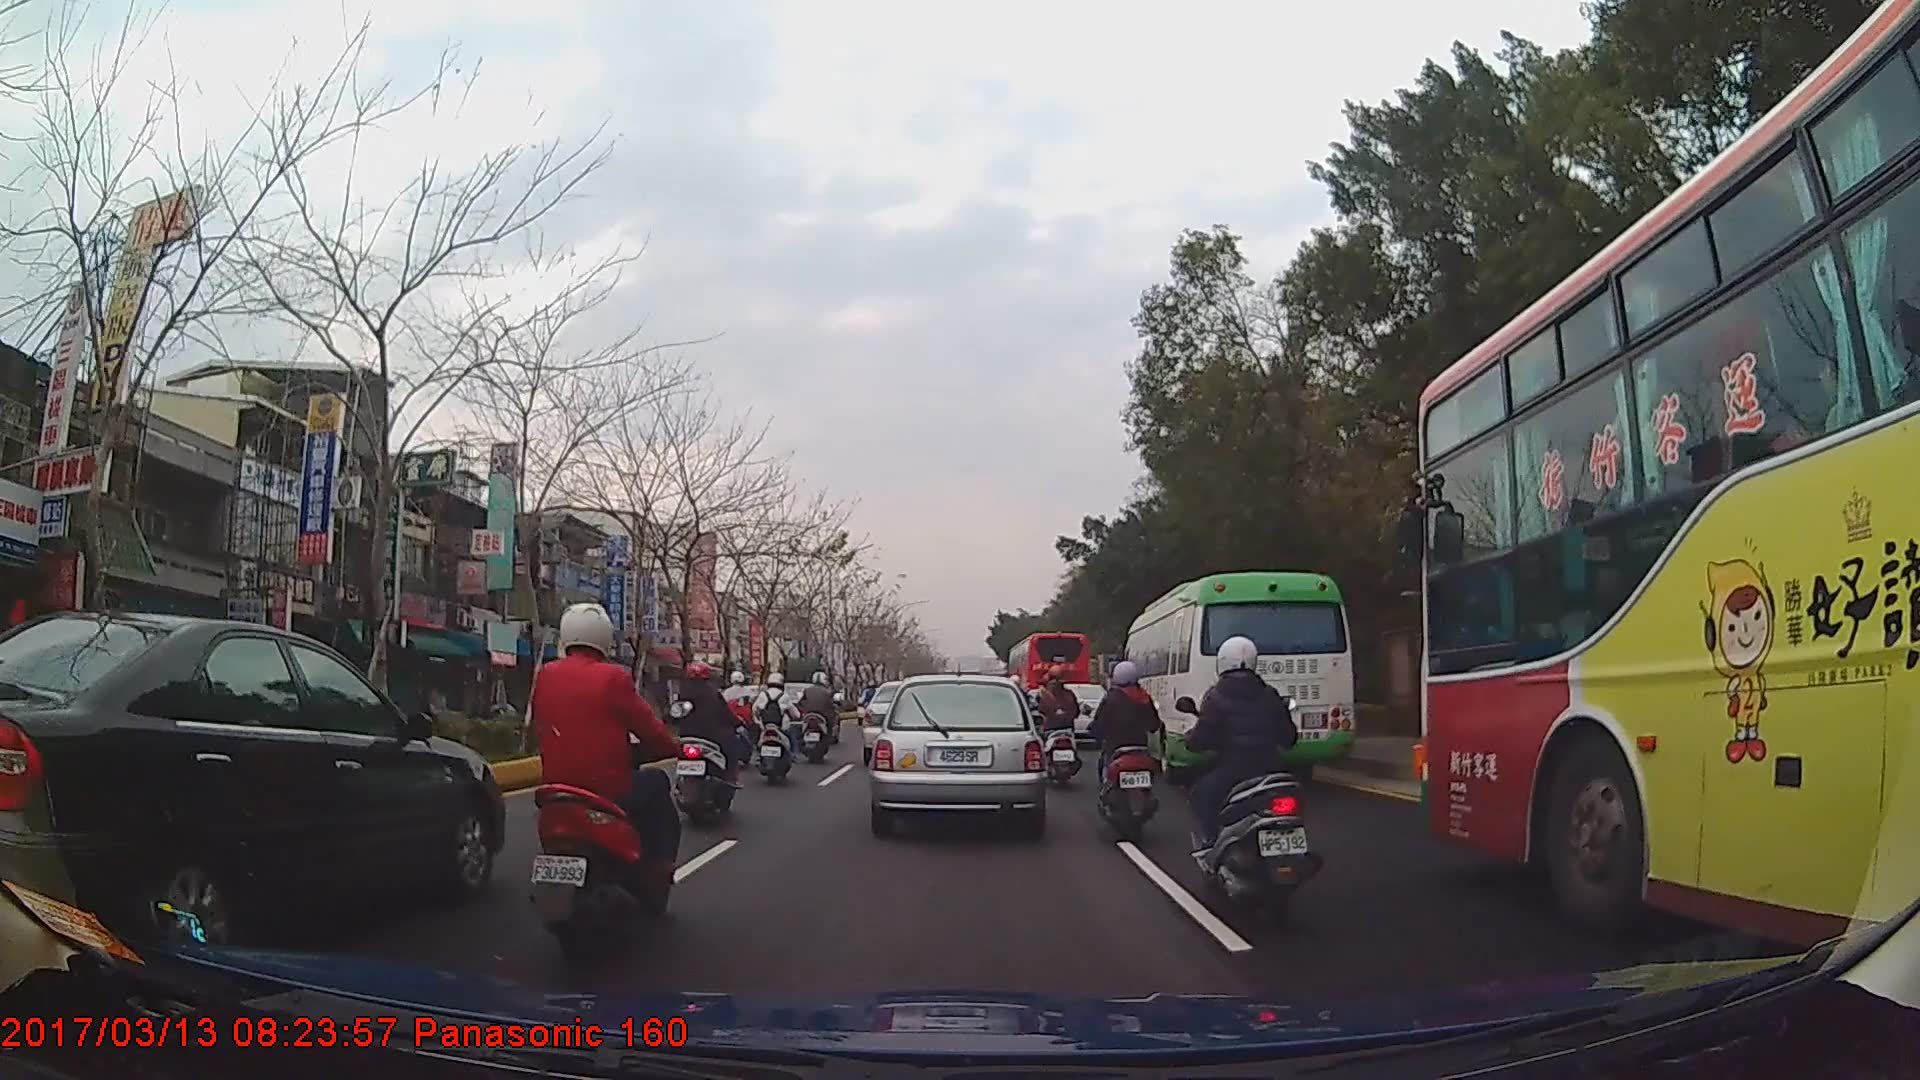rider: (531, 593, 689, 965), (1182, 639, 1326, 921), (1090, 662, 1169, 849), (666, 661, 745, 825), (1038, 660, 1084, 788), (754, 675, 804, 785), (803, 673, 844, 763), (720, 672, 763, 753), (859, 682, 880, 721)
vehicle: (1409, 0, 1920, 962), (0, 607, 504, 961), (1119, 570, 1355, 786), (869, 671, 1042, 833), (1009, 631, 1094, 730)
